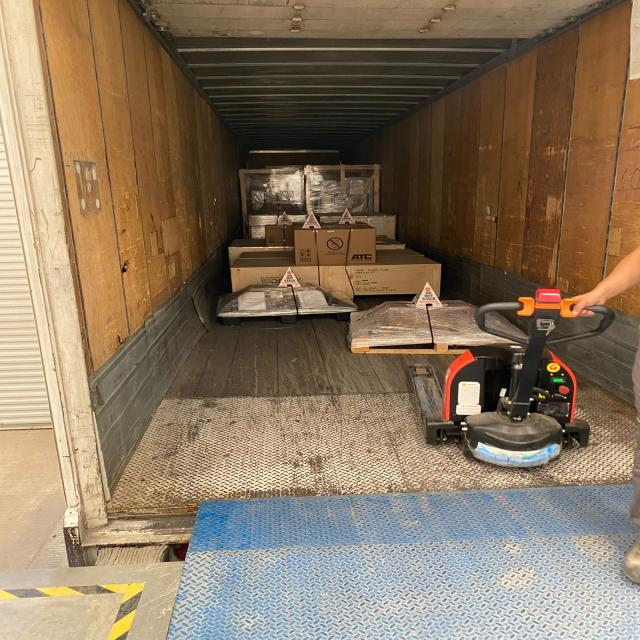flood: (230, 250, 441, 300)
